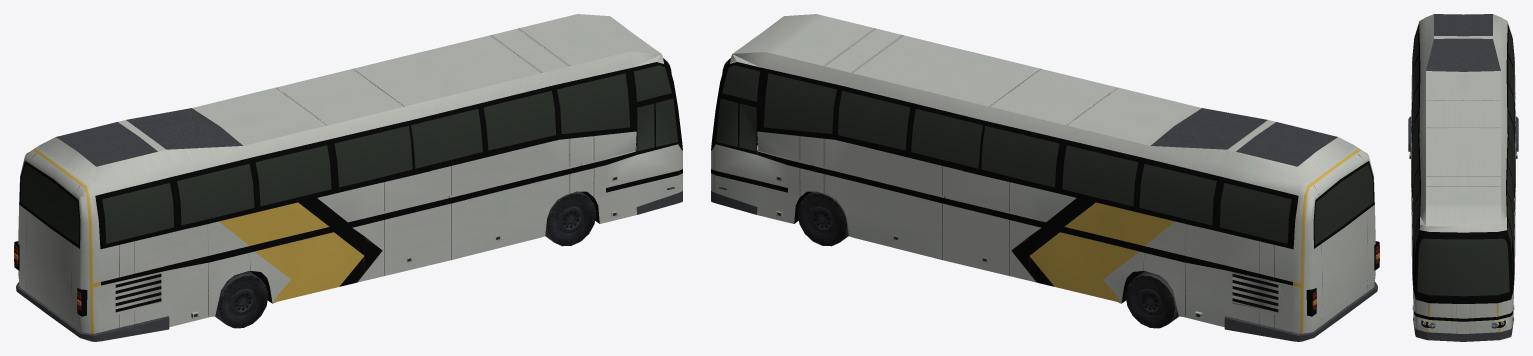
Rendered from бас.FBX.
The picture shows the model from 3 angles, left to right: view 1: azimuth 30°, elevation 25°; view 2: azimuth 150°, elevation 25°; view 3: azimuth 270°, elevation 25°; orthographic projection. The views are drawn at different scales.
Parts seen in each view (by area): view 1: 19BUS; view 2: 19BUS; view 3: 19BUS.
Boxes of the visible parts, x1,y1,x2,y2 form: 19BUS: [14, 14, 682, 341]; 19BUS: [711, 14, 1379, 341]; 19BUS: [1408, 14, 1518, 341].
Bounding box in the file's own units: 66.31 × 18.81 × 14.31.
